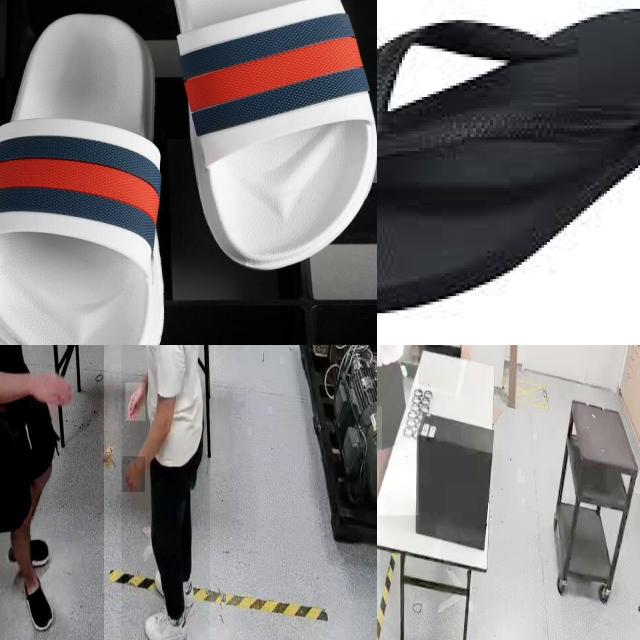Sandals: (0, 0, 377, 345), (377, 0, 640, 336)
hand_noglove: (30, 368, 74, 409), (122, 456, 146, 493), (126, 382, 146, 422)
person: (0, 345, 104, 640), (121, 345, 210, 640), (377, 345, 418, 516)
shoes: (19, 573, 56, 637), (141, 607, 193, 640)
